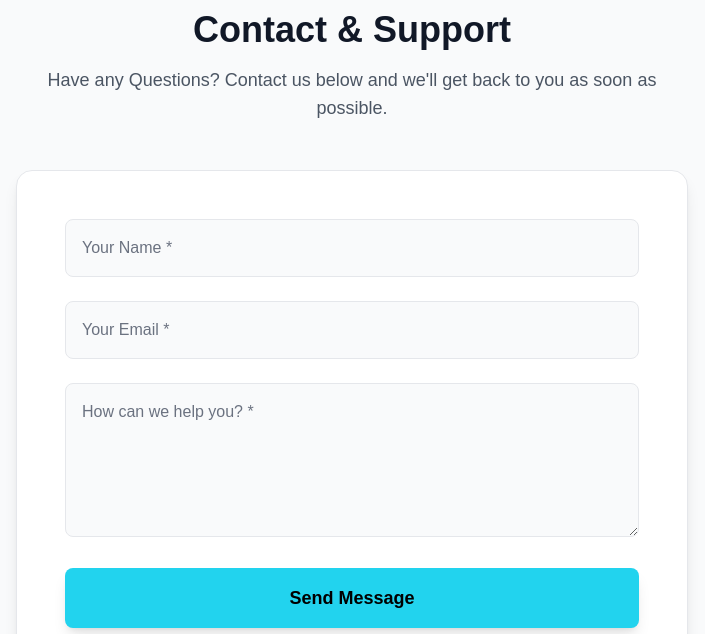
ContactSection Component › shows error message when API request fails
Type "John Doe" into the field with placeholder "Your Name *" at [352, 248], box [65,219,639,277]
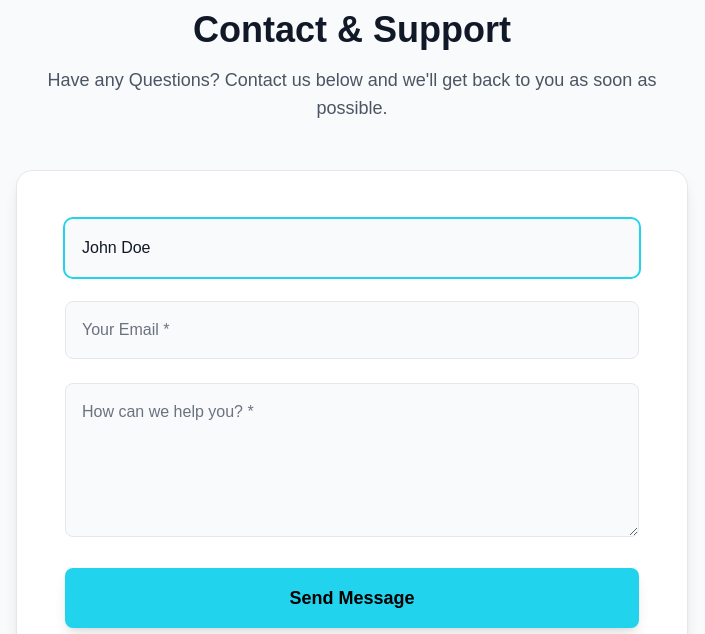
Type "john@example.com" into the field with placeholder "Your Email *" at [352, 330], box [65,301,639,359]
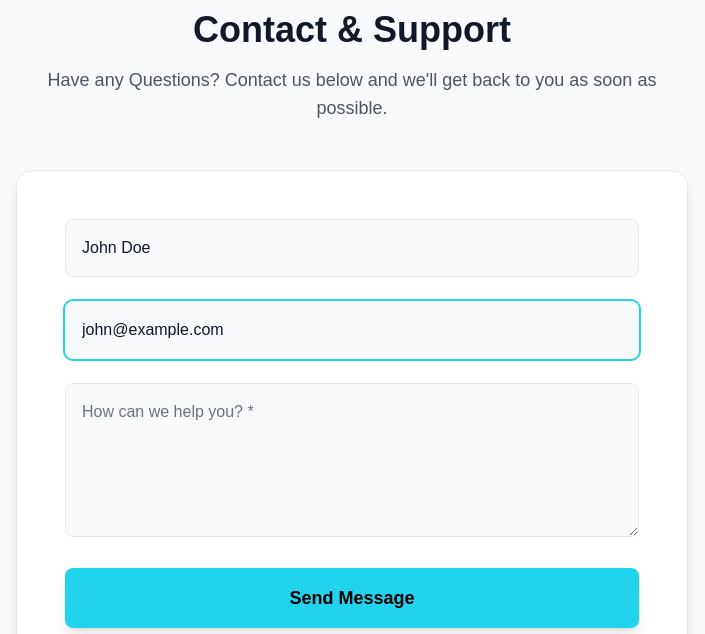
Type "This is a test message" into the text box with placeholder "How can we help you? *" at [352, 460], box [65,383,639,537]
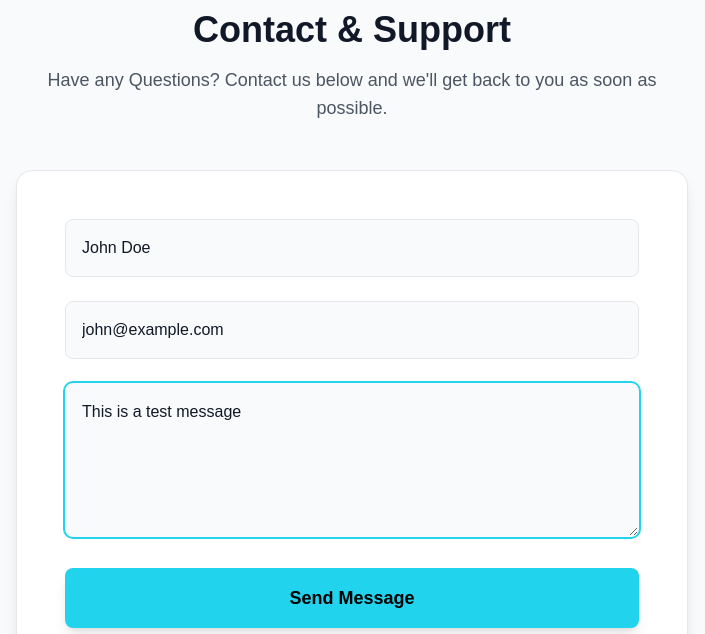
Click the button "Send Message" at [352, 598], box [65,568,639,628]
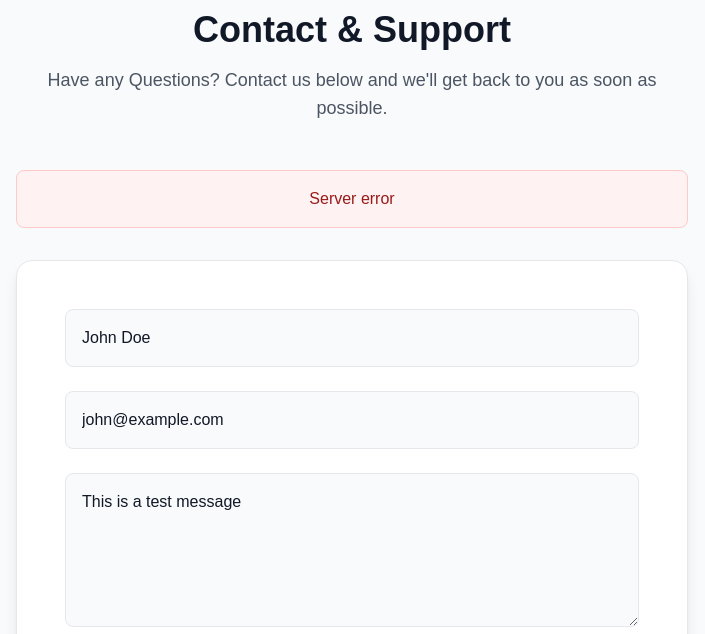
Check: the text "Server error" is shown, box [16,170,688,228]
